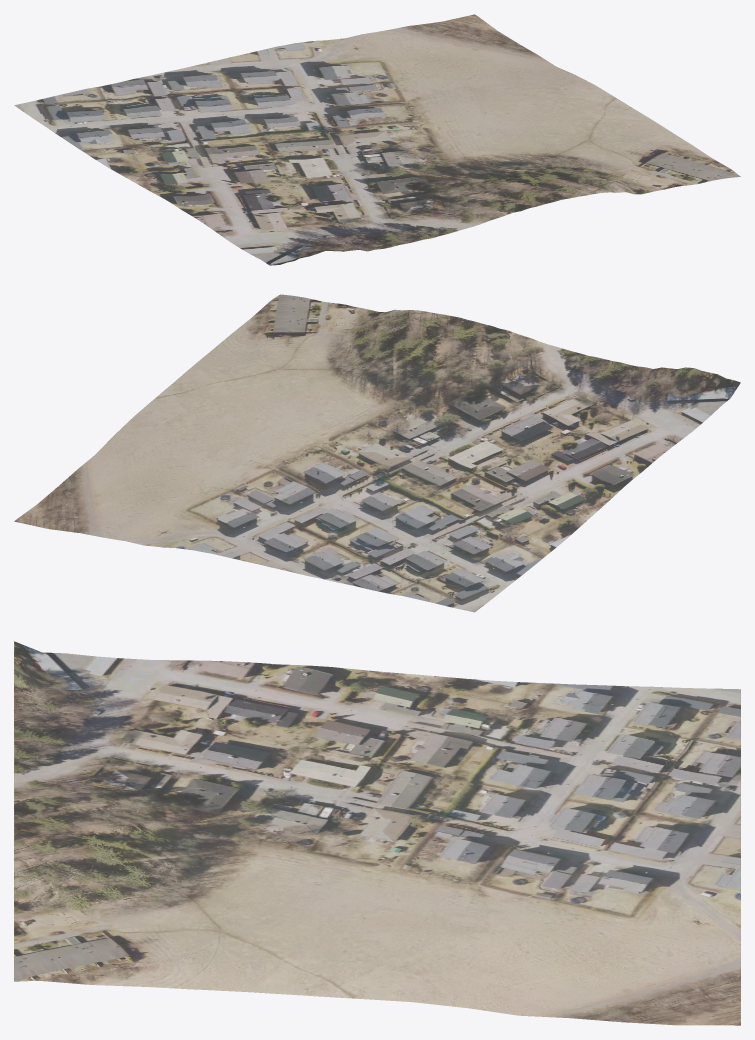
File: CM_Terrain_24492506_6817541.fbx
The picture shows the model from 3 angles, top to bottom: view 1: azimuth 30°, elevation 25°; view 2: azimuth 150°, elevation 25°; view 3: azimuth 270°, elevation 25°; orthographic projection. The views are drawn at different scales.
Visible parts, largest first — view 1: CM_Terrain_24492506_6817541_LOD0; view 2: CM_Terrain_24492506_6817541_LOD0; view 3: CM_Terrain_24492506_6817541_LOD0.
Part boxes in pixels (x1,y1,x2,y2): CM_Terrain_24492506_6817541_LOD0: (14, 14, 740, 265); CM_Terrain_24492506_6817541_LOD0: (14, 294, 740, 612); CM_Terrain_24492506_6817541_LOD0: (14, 641, 740, 1025).
Size of what is drawn, in the model's own units: 205 by 25.37 by 205.
